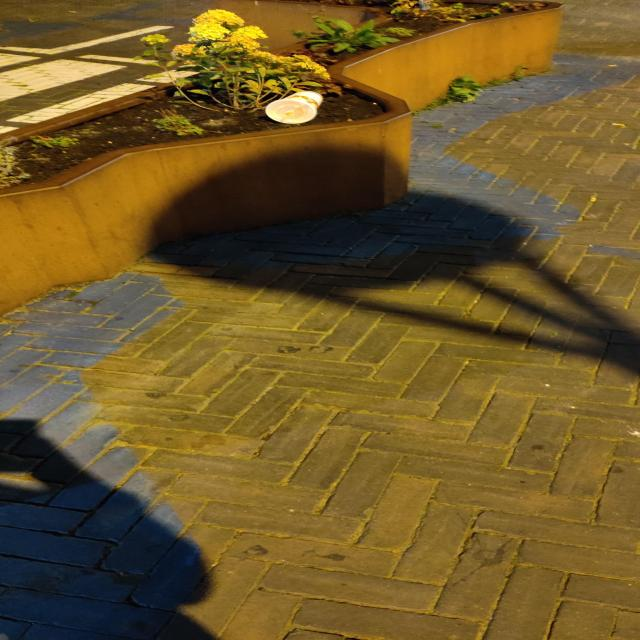litter: (266, 90, 329, 122)
